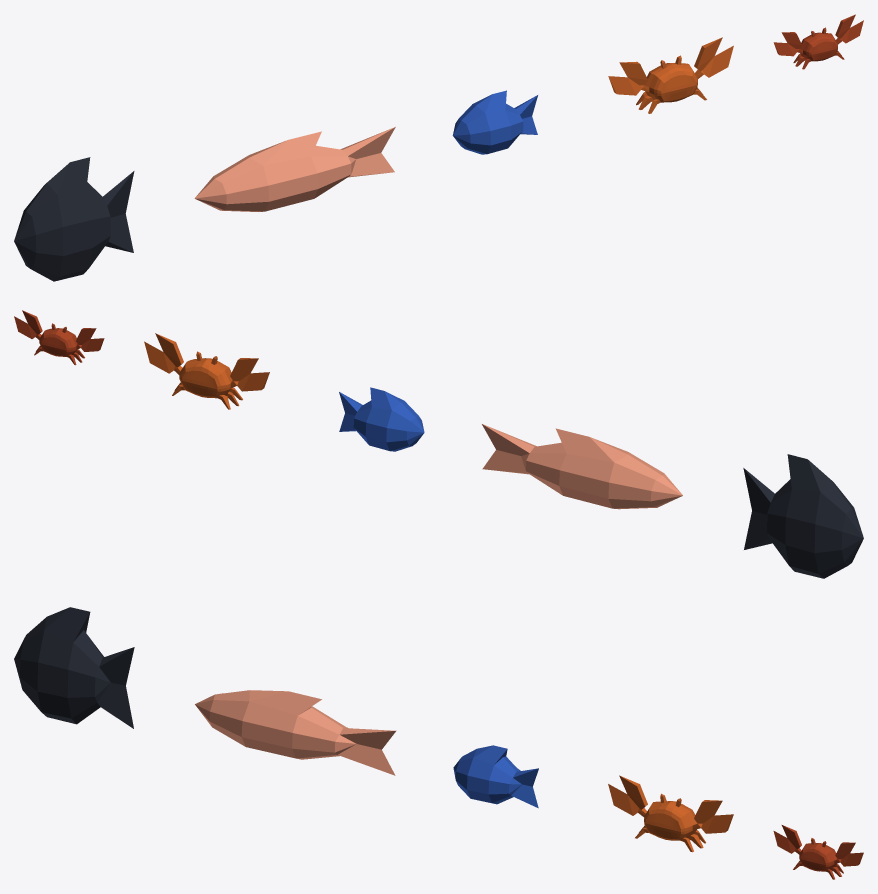
Rendered from fishi.fbx.
The picture shows the model from 3 angles, top to bottom: view 1: azimuth 30°, elevation 25°; view 2: azimuth 150°, elevation 25°; view 3: azimuth 330°, elevation 25°; orthographic projection.
Visible parts, largest first — view 1: Cylinder.003, Cylinder.002, Cube, Cylinder.001, Cube.002; view 2: Cylinder.003, Cylinder.002, Cube, Cylinder.001, Cube.002; view 3: Cylinder.003, Cylinder.002, Cube, Cylinder.001, Cube.002.
Boxes of the visible parts, bbox=[...] form: Cylinder.003: bbox=[14, 157, 134, 281]; Cylinder.002: bbox=[194, 127, 395, 211]; Cube: bbox=[608, 37, 733, 113]; Cylinder.001: bbox=[452, 90, 537, 154]; Cube.002: bbox=[773, 14, 863, 69]; Cylinder.003: bbox=[743, 454, 863, 578]; Cylinder.002: bbox=[482, 424, 682, 509]; Cube: bbox=[144, 333, 269, 409]; Cylinder.001: bbox=[339, 387, 424, 451]; Cube.002: bbox=[14, 310, 104, 365]; Cylinder.003: bbox=[14, 607, 134, 728]; Cylinder.002: bbox=[195, 690, 396, 775]; Cube: bbox=[608, 775, 733, 852]; Cylinder.001: bbox=[453, 745, 538, 808]; Cube.002: bbox=[773, 825, 863, 879].
Size of the model in its own units: 8.85 by 1.12 by 0.5015.
